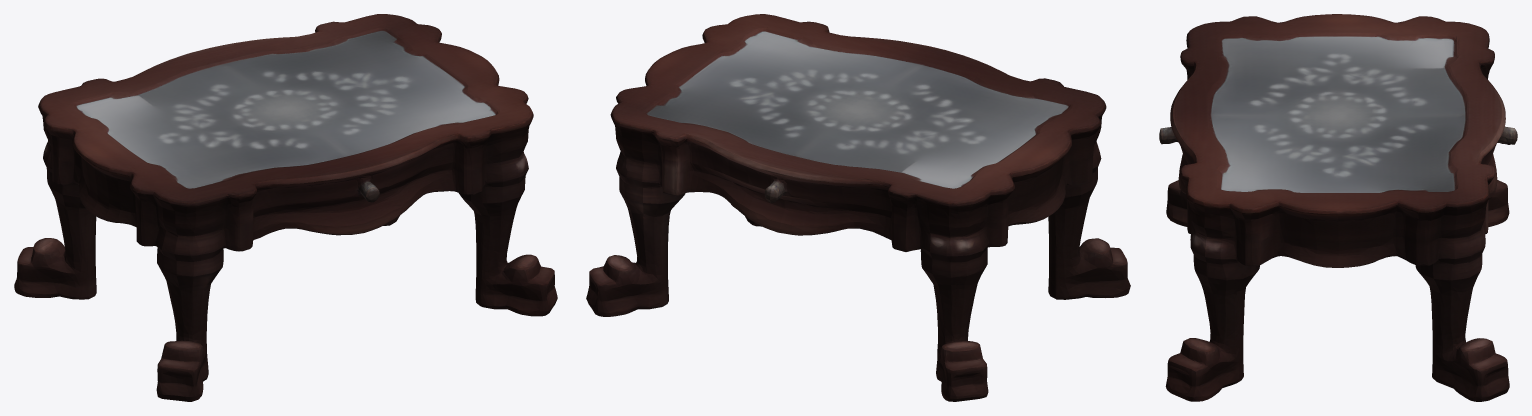
Rendered from coffee_table.glb.
The picture shows the model from 3 angles, left to right: view 1: azimuth 30°, elevation 25°; view 2: azimuth 150°, elevation 25°; view 3: azimuth 270°, elevation 25°; orthographic projection.
Parts seen in each view (by area): view 1: world; view 2: world; view 3: world.
Boxes of the visible parts, x1,y1,x2,y2 form: world: (14,14,557,401); world: (586,14,1130,401); world: (1159,14,1517,401).
Size of the model in its own units: 1 by 0.4535 by 0.7645.
Materials: 1 (1 with a texture image).
